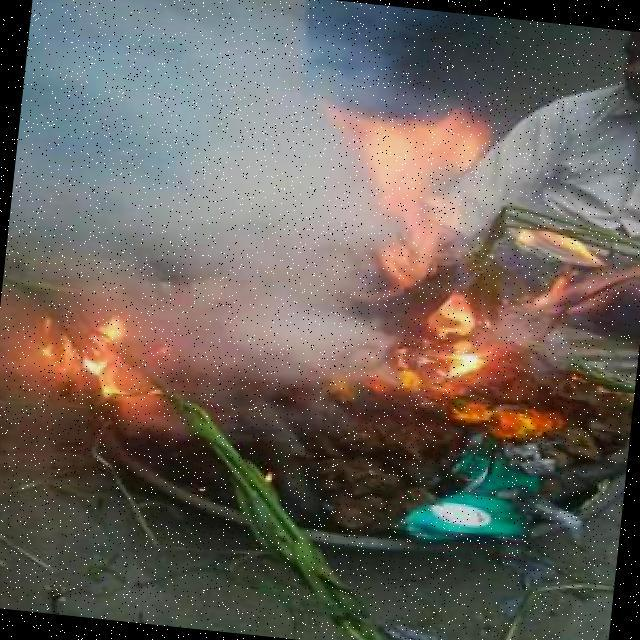Fire: (352, 101, 519, 325), (45, 306, 160, 407), (412, 318, 496, 392)
Smoke: (126, 314, 370, 391)
